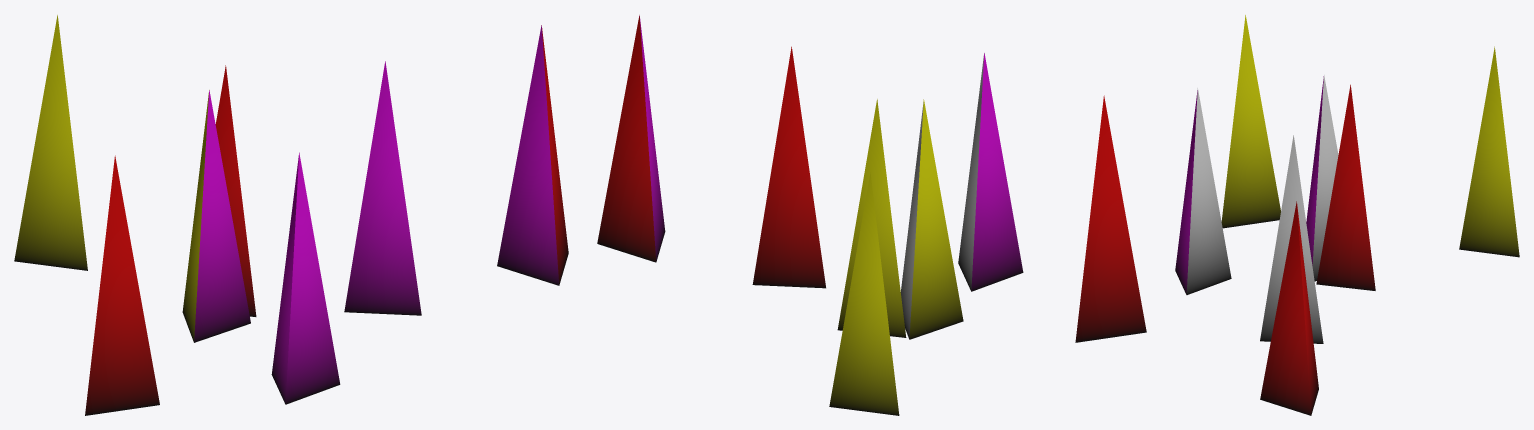
The model's file is emt_grass.fbx.
3 renders of one model, left to right at view 1: azimuth 30°, elevation 25°; view 2: azimuth 150°, elevation 25°; view 3: azimuth 270°, elevation 25°, orthographic. The views are drawn at different scales.
Visible parts, largest first — view 1: testScene_grass; view 2: testScene_grass; view 3: testScene_grass.
Part boxes in pixels (x1,y1,x2,y2): testScene_grass: (14, 15, 568, 415); testScene_grass: (597, 15, 1146, 415); testScene_grass: (1175, 15, 1519, 415).
Size of the model in its own units: 164 by 75.78 by 112.
